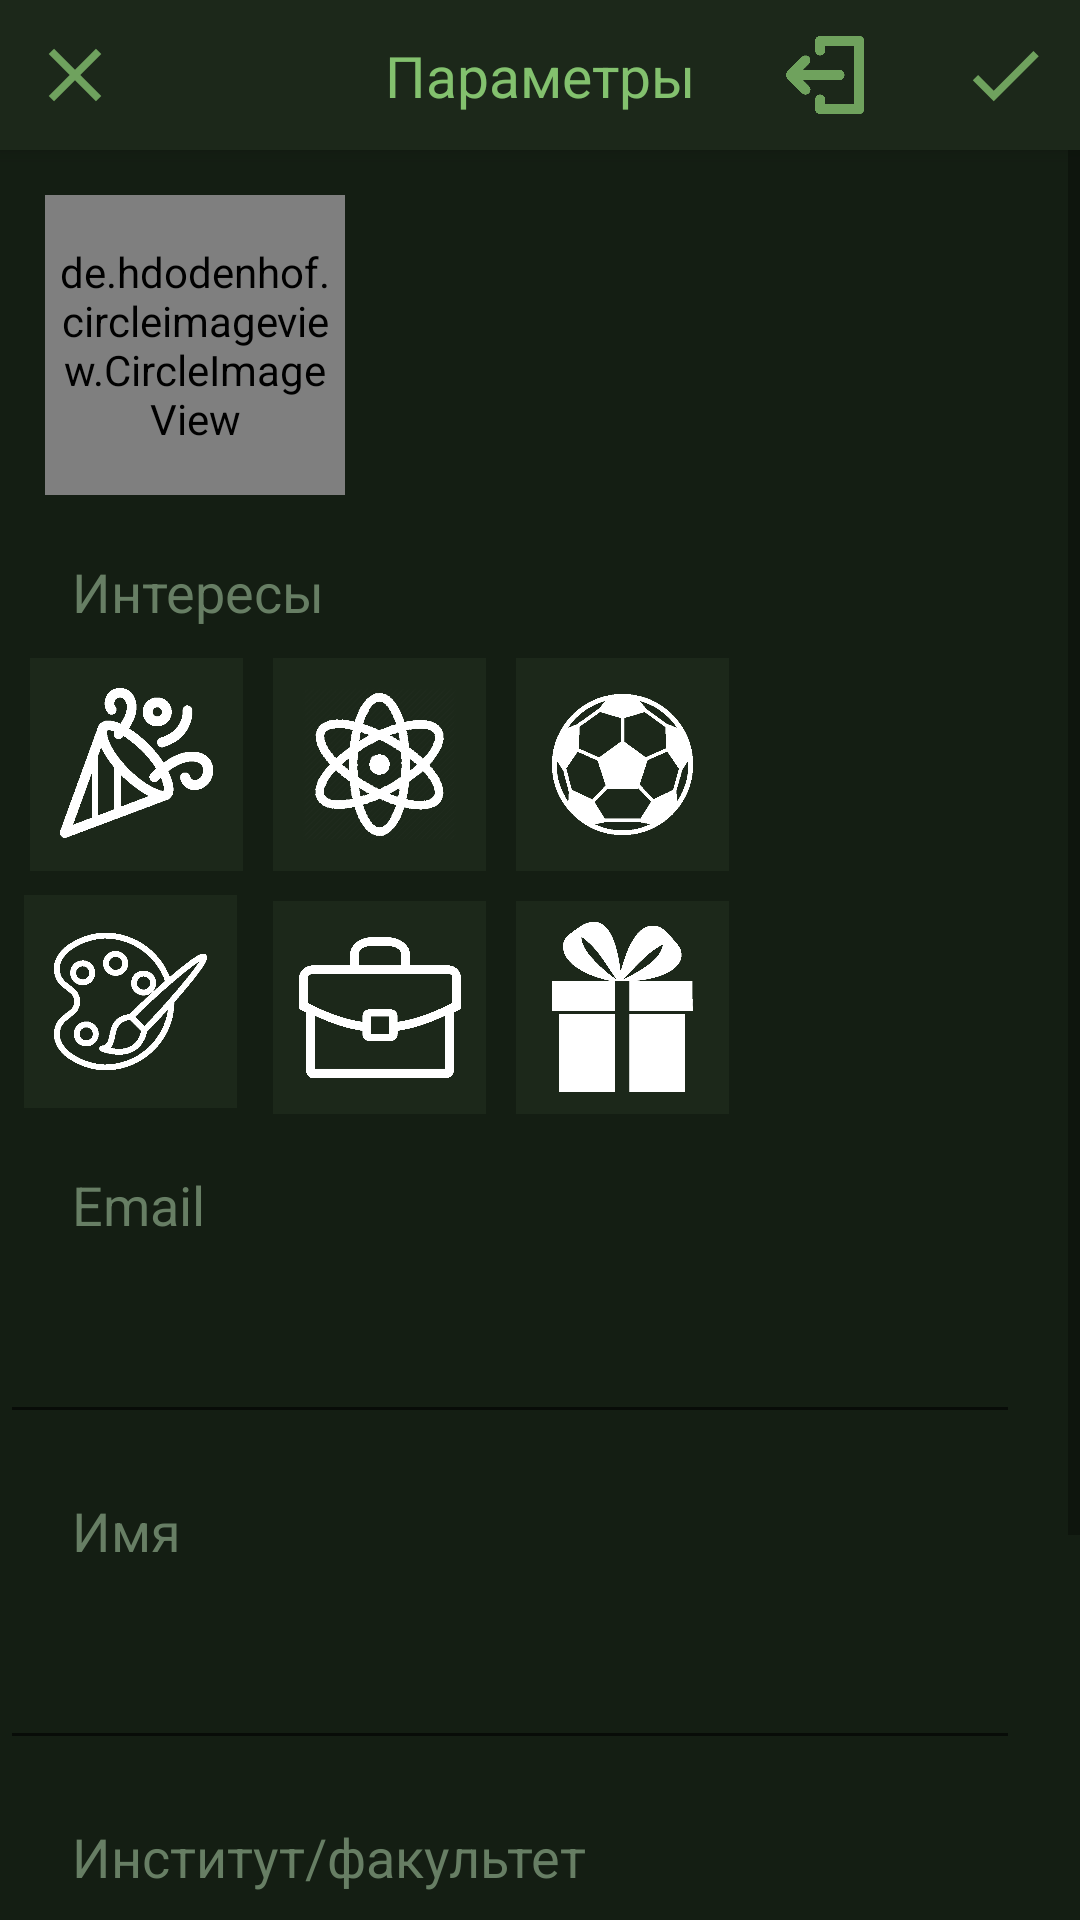

Where to tap for icons on this 1080px×1920px app screen, as (x,y):
art: (130,1001)
check: (1006,76)
close: (75,75)
loguot: (825,75)
party: (136,764)
science: (379,764)
sport: (622,764)
work: (379,1007)
